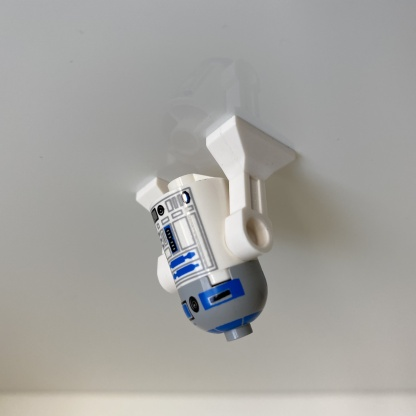r2d2: (136, 116, 297, 343)
